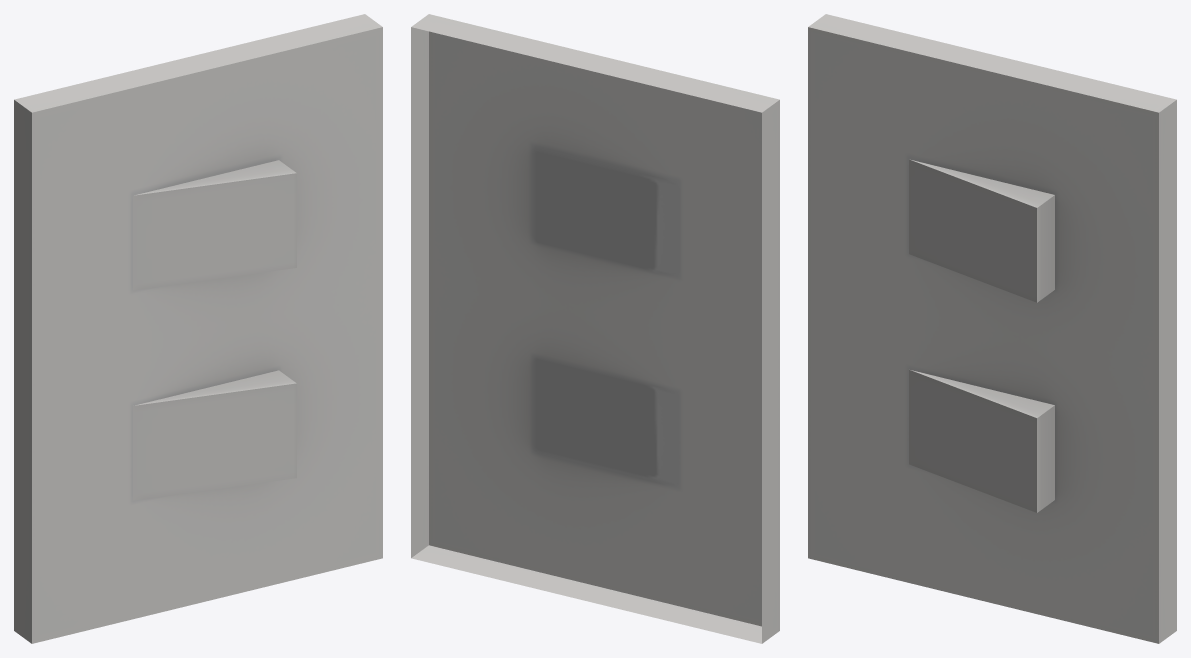
Rendered from sb_obj_ModernCity053_electric_switch.fbx.
3 views of the same model, side by side, from view 1: azimuth 30°, elevation 25°; view 2: azimuth 150°, elevation 25°; view 3: azimuth 330°, elevation 25° (orthographic).
Parts seen in each view (by area): view 1: sb_obj_ModernCity053_electric_switch; view 2: sb_obj_ModernCity053_electric_switch; view 3: sb_obj_ModernCity053_electric_switch.
Part boxes in pixels (x1=…): sb_obj_ModernCity053_electric_switch: x1=14, y1=14, x2=382, y2=643; sb_obj_ModernCity053_electric_switch: x1=411, y1=14, x2=779, y2=643; sb_obj_ModernCity053_electric_switch: x1=808, y1=14, x2=1176, y2=643.
Bounding box in the file's own units: 0.114 × 0.1648 × 0.0201.
1 material, 1 textured.
